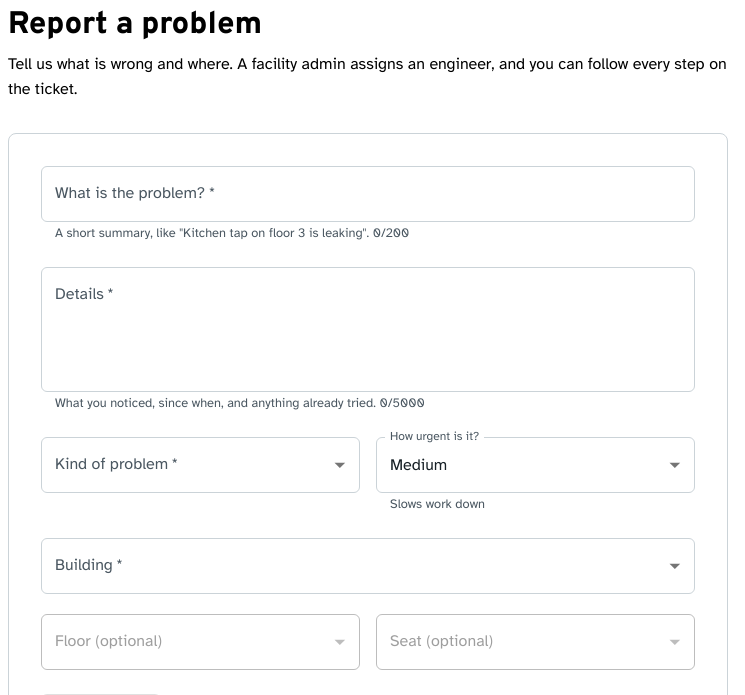
it: ReportPage › caps title and details at the server's lengths, counts the details, and places a control-character refusal
Expected: the text "0/5000" is shown, [55,395,425,411]
Step 1. Type "Tap leaking" into the field labelled "What is the problem? *" → (368, 194), box [41,166,695,222]
Step 2. Type "Since Monday" into the text box labelled "Details *" → (368, 330), box [55,284,681,376]
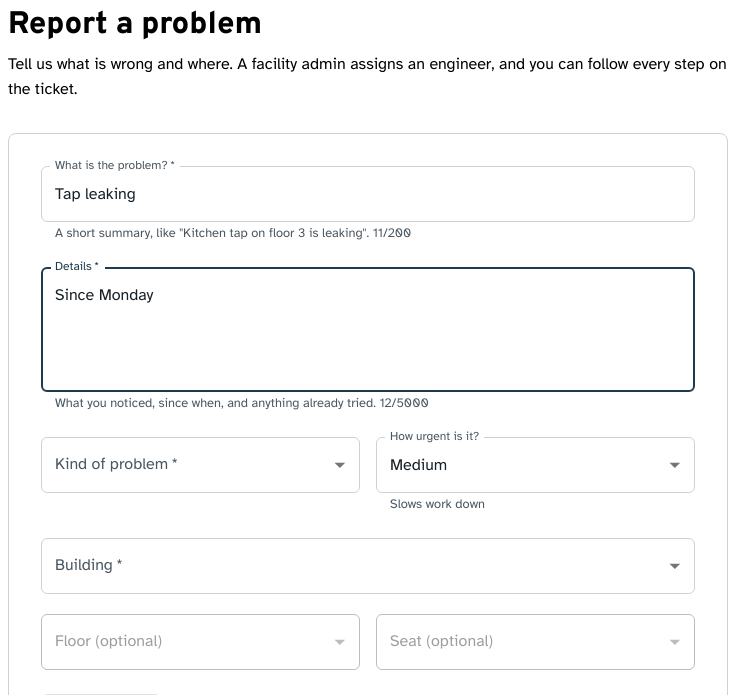
Step 3. Click the dropdown named "Kind of problem" next to "Kind of problem" → click(200, 465), box [41,437,360,493]
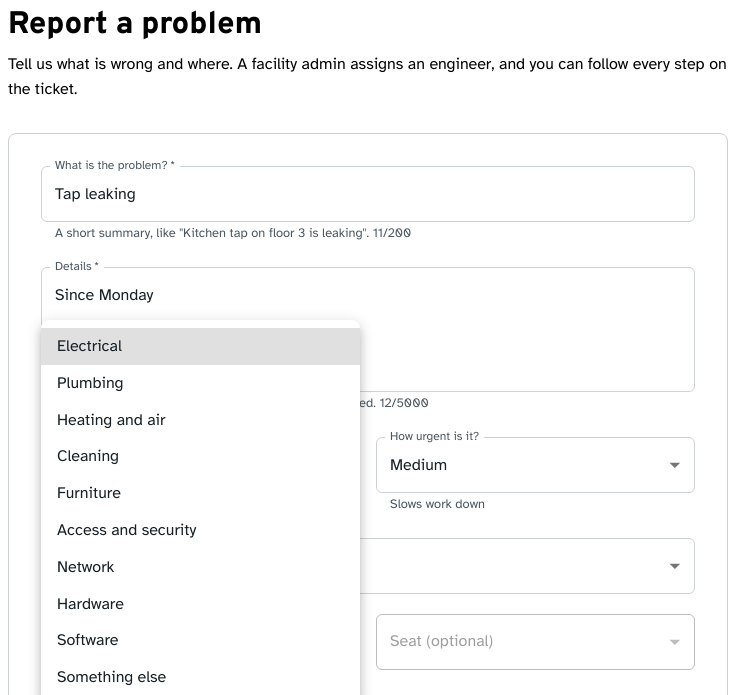
Step 4. Click the option "Plumbing" → click(90, 383), box [57,373,124,393]
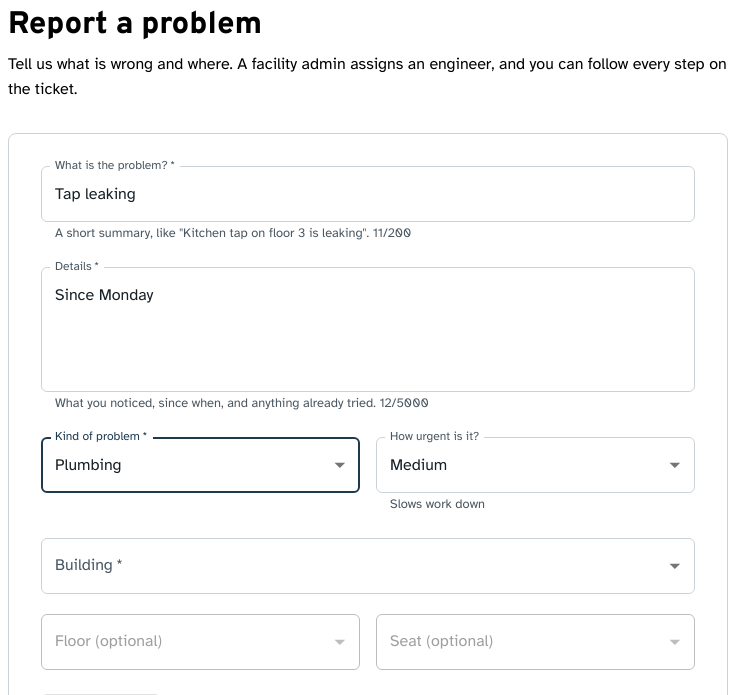
Step 5. Click the dropdown named "Building" next to "Building" → click(368, 566), box [41,538,695,594]
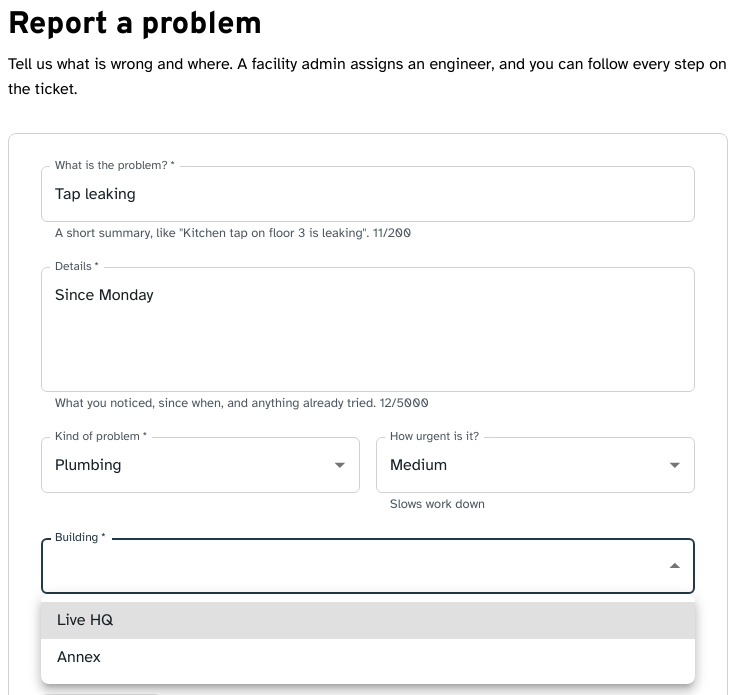
Step 6. Click the option "Live HQ" → click(85, 620), box [41,602,695,639]
(page scrolled)
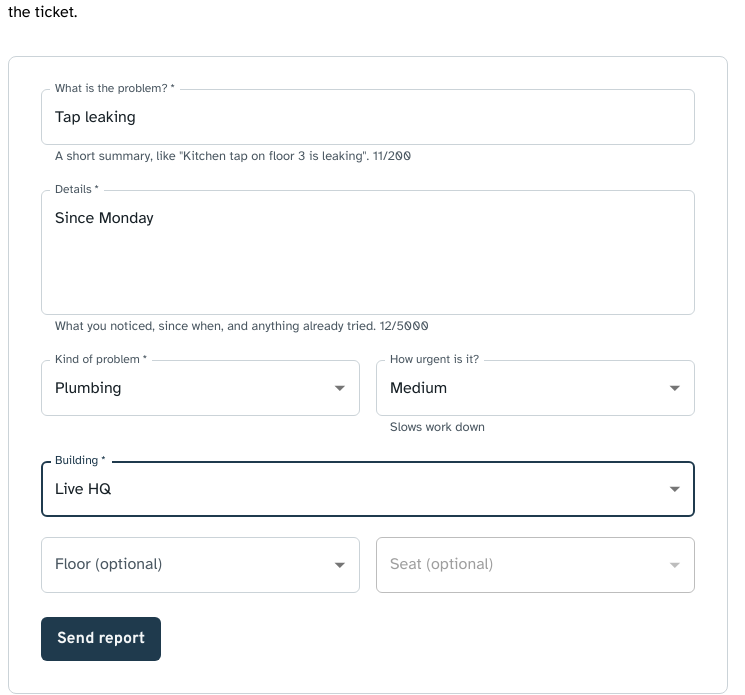
Step 7. Click the button "Send report" → click(101, 639), box [41,617,161,661]
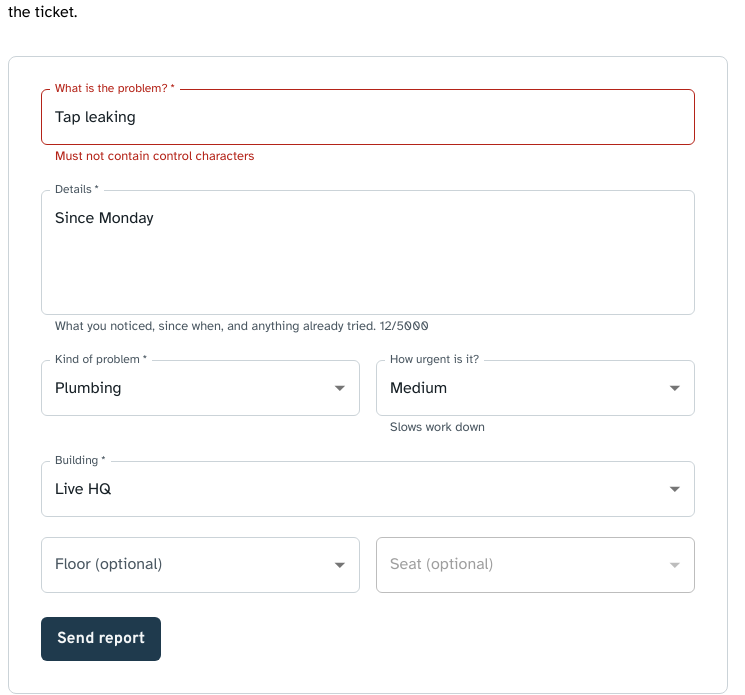
Expected: the text "Must not contain control characters" is shown, [55,148,254,164]
